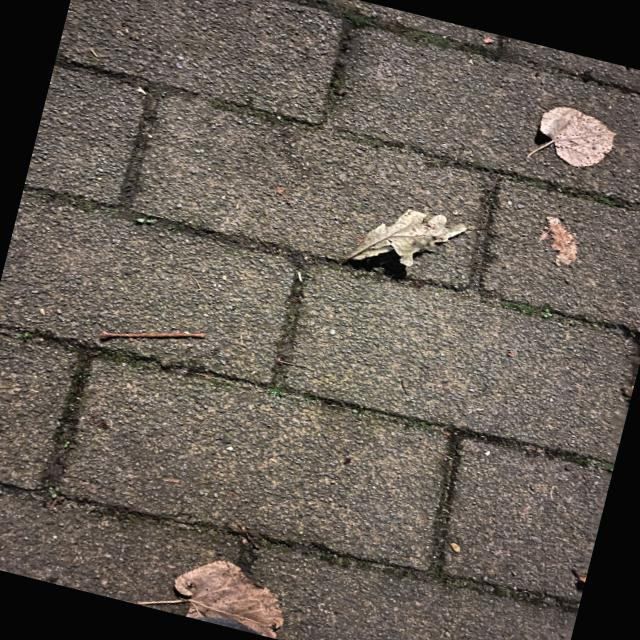leaves: (152, 533, 306, 640), (518, 84, 621, 176), (368, 195, 458, 285), (532, 216, 604, 278)
pavement: (0, 0, 633, 640)
weedling: (497, 298, 555, 321)
